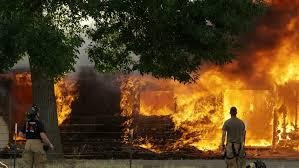fire: (120, 19, 299, 158), (51, 72, 80, 126), (12, 127, 26, 141)
